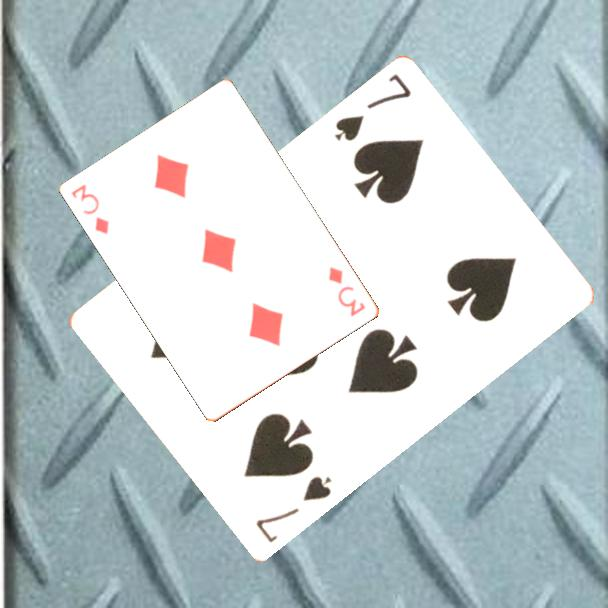d03: (68, 181, 113, 237), (325, 263, 369, 320)
s07: (330, 71, 415, 145), (252, 473, 335, 547)
